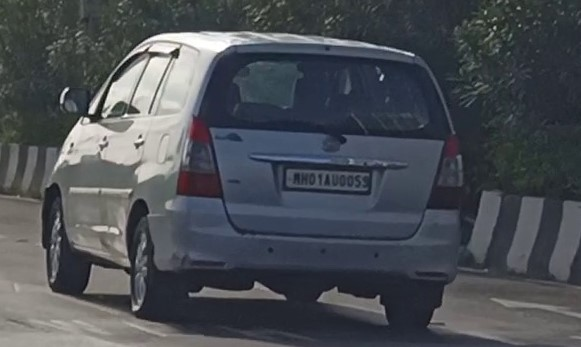MH01AU0059: (284, 170, 371, 192)
